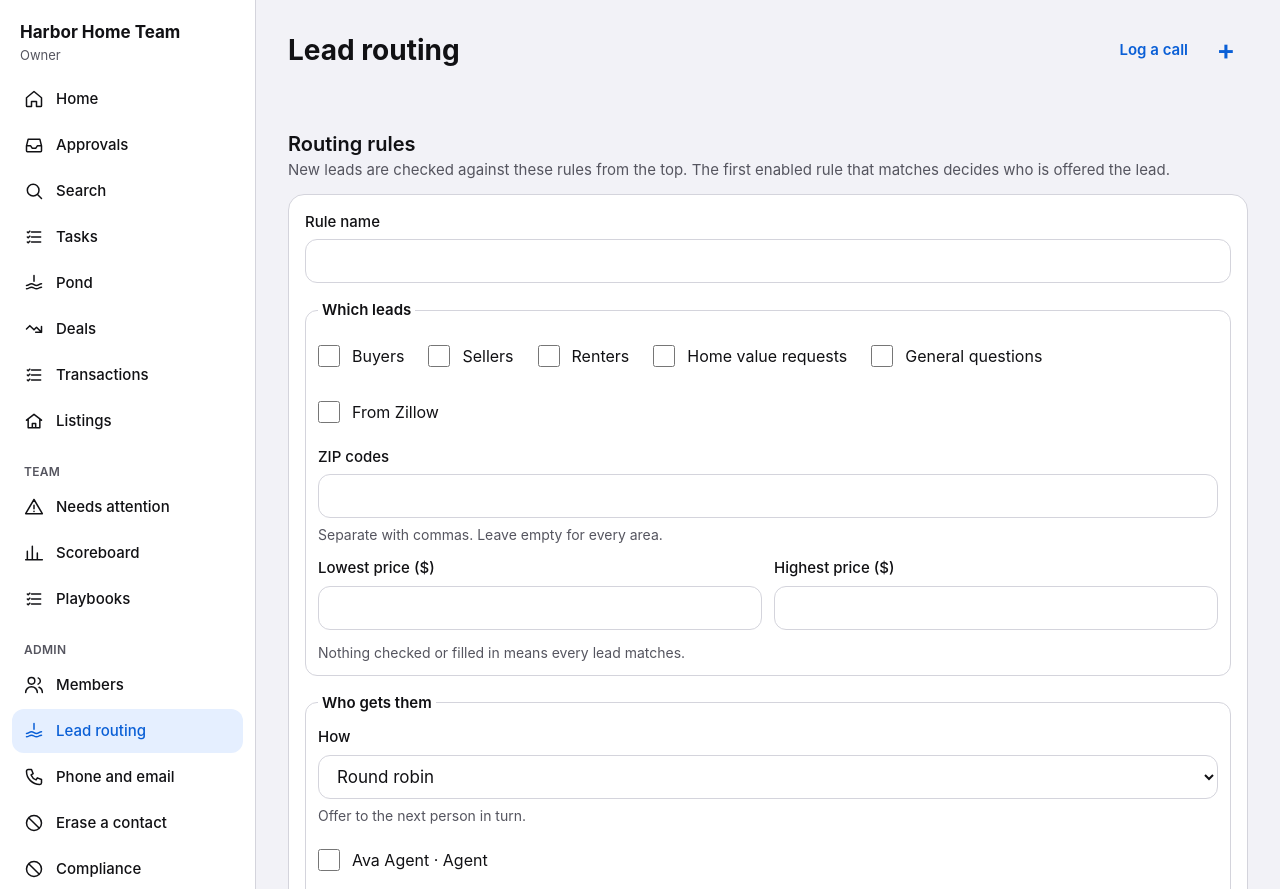
Test: Lead routing › creates a round-robin rule for Zillow buyers in two ZIPs; TCs are never offered as candidates
Earlier steps of the test are not shown.
Type "Zillow buyers" into the field labelled "Rule name" at {"x": 768, "y": 261}, box [305, 239, 1231, 283]
Click the checkbox labelled "Buyers" at {"x": 329, "y": 356}, box [318, 344, 340, 366]
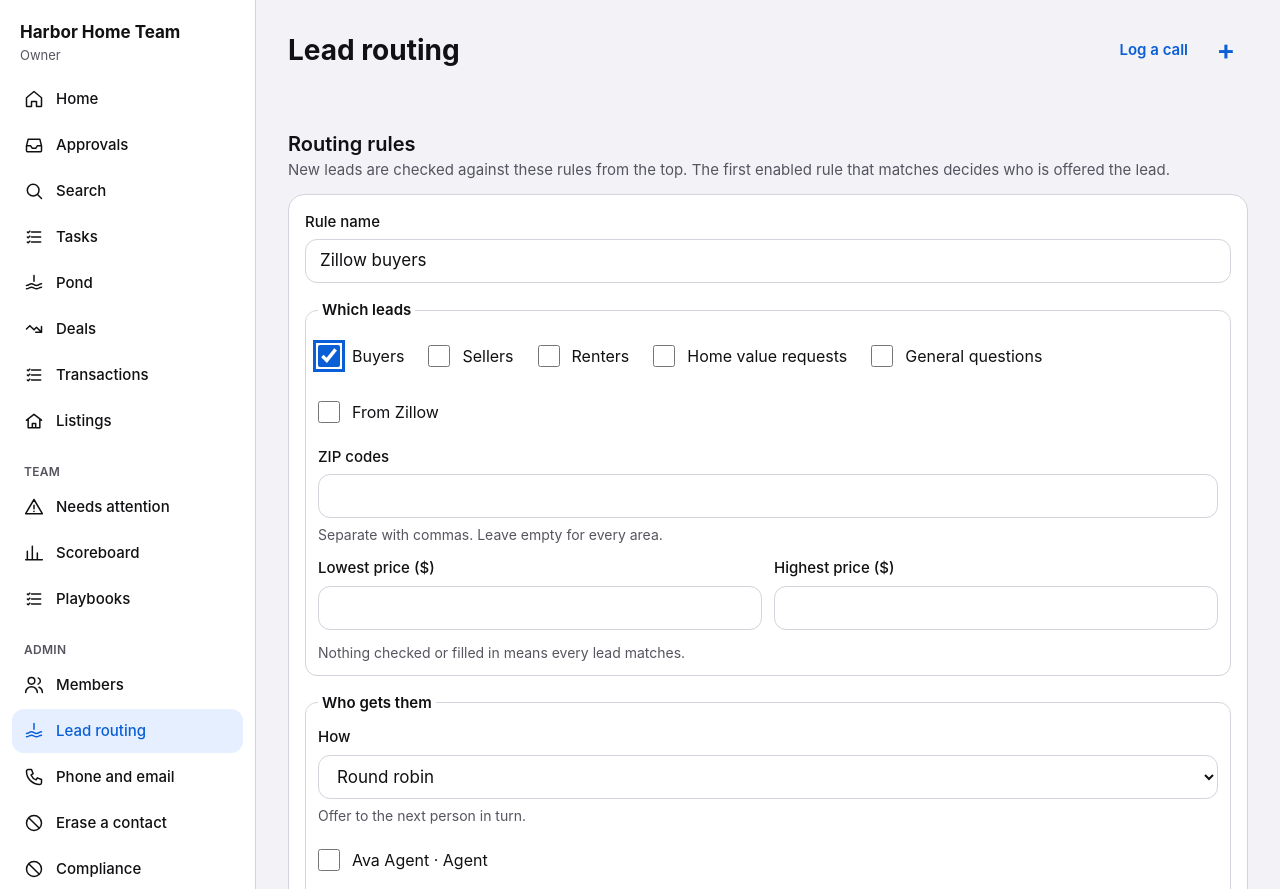
Click the checkbox labelled "From Zillow" at {"x": 329, "y": 412}, box [318, 400, 340, 422]
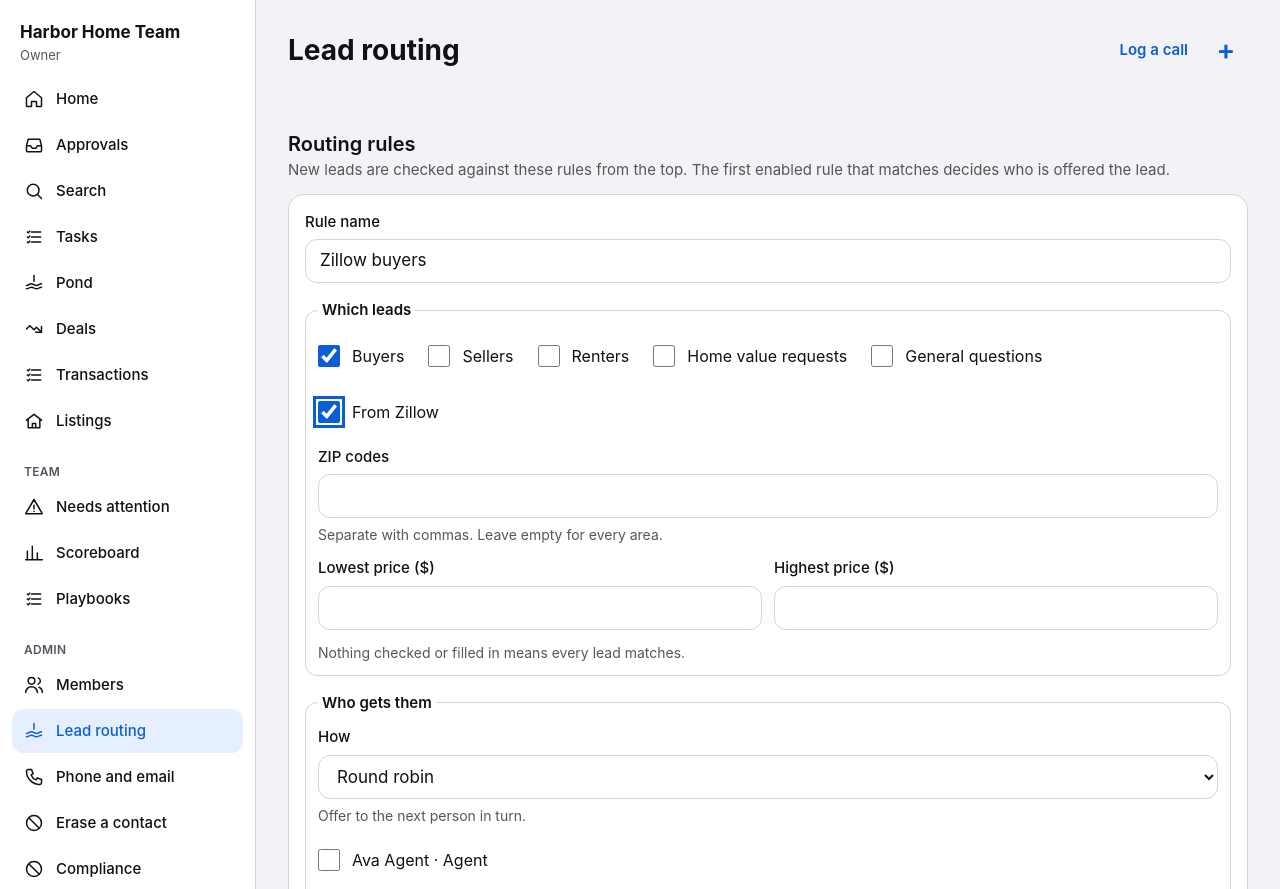
Type "94110, 94112" into the field labelled "ZIP codes" at {"x": 768, "y": 496}, box [318, 474, 1218, 518]
Type "900,000" into the field labelled "Highest price ($)" at {"x": 996, "y": 608}, box [774, 586, 1218, 630]
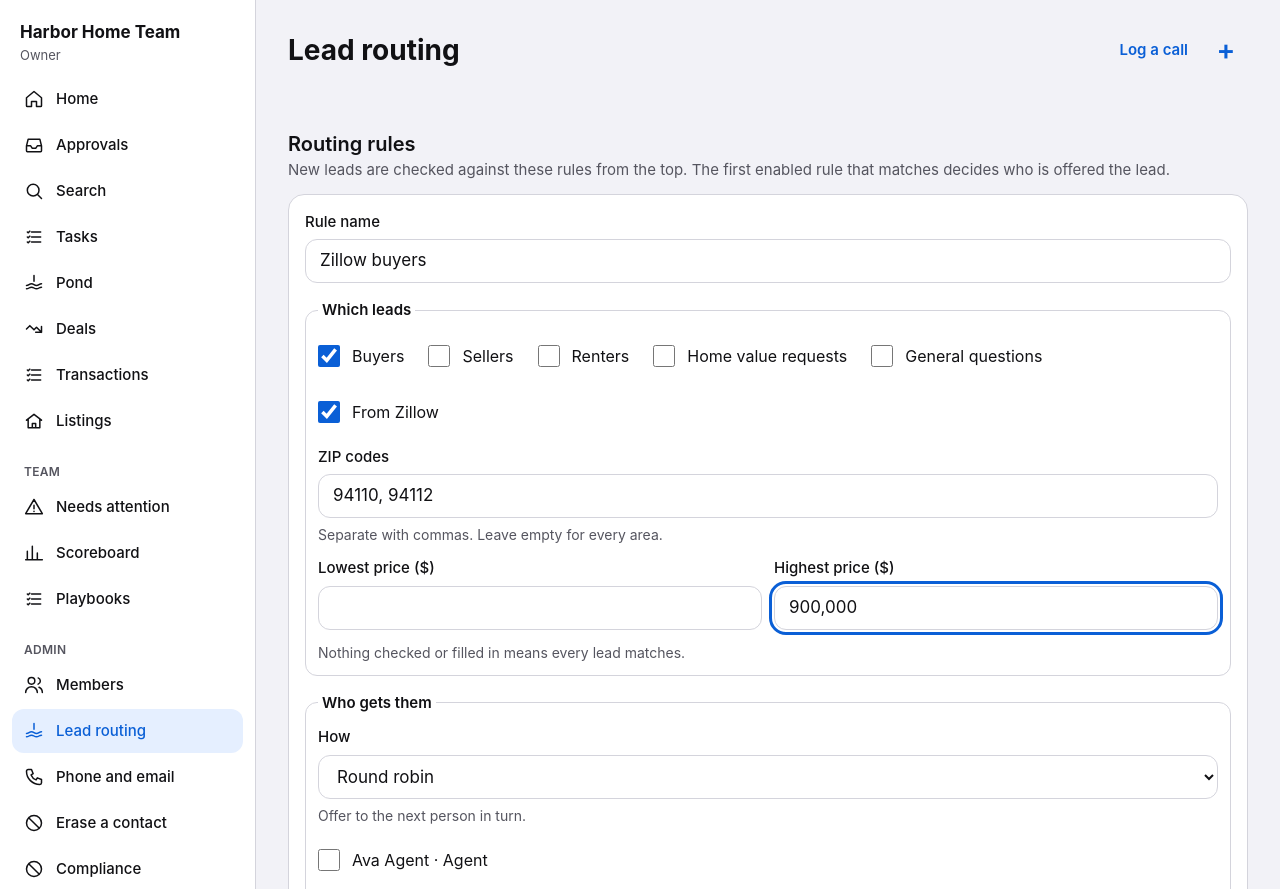
Click the checkbox labelled "Ava Agent · Agent" at {"x": 329, "y": 860}, box [318, 848, 340, 870]
(page scrolled)
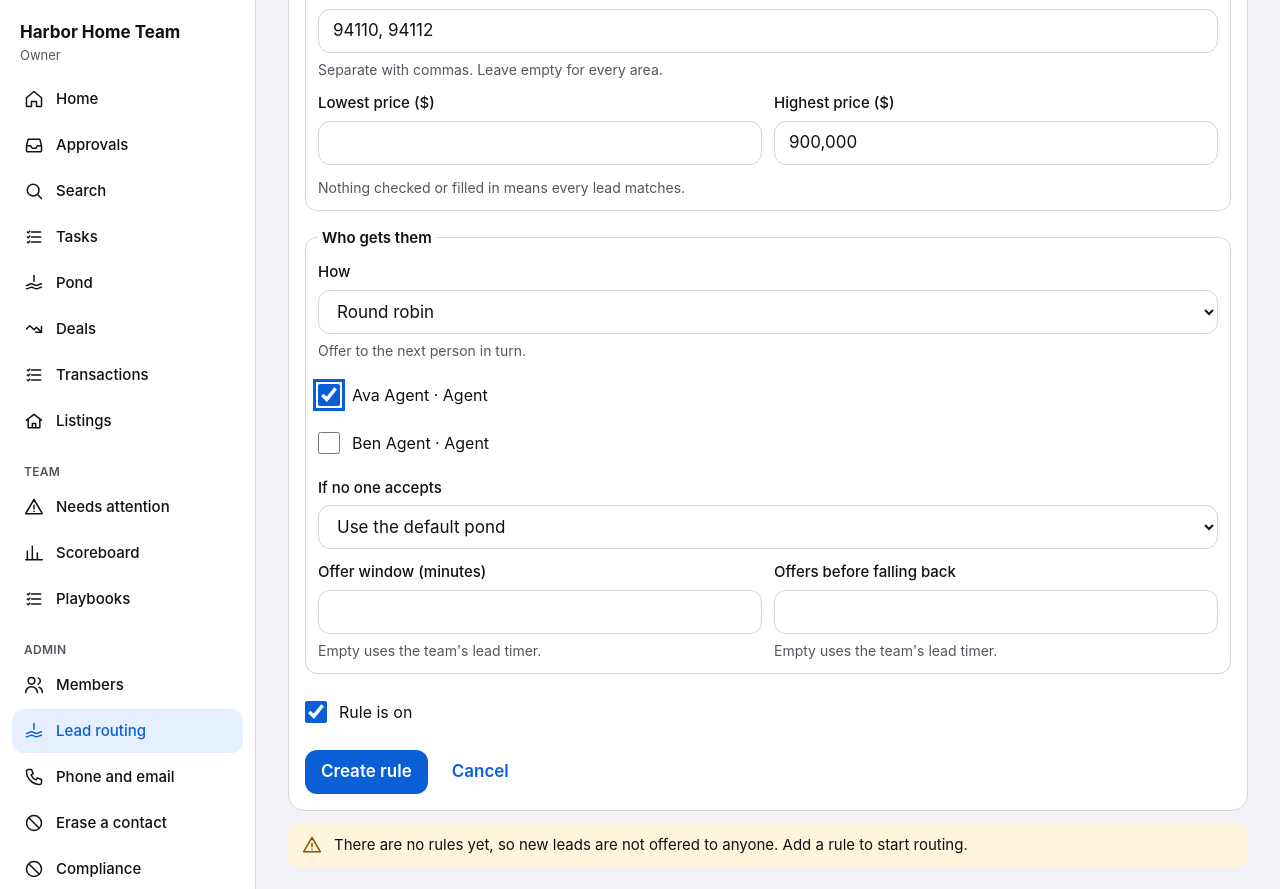
Click the checkbox labelled "Ben Agent · Agent" at {"x": 329, "y": 442}, box [318, 432, 340, 454]
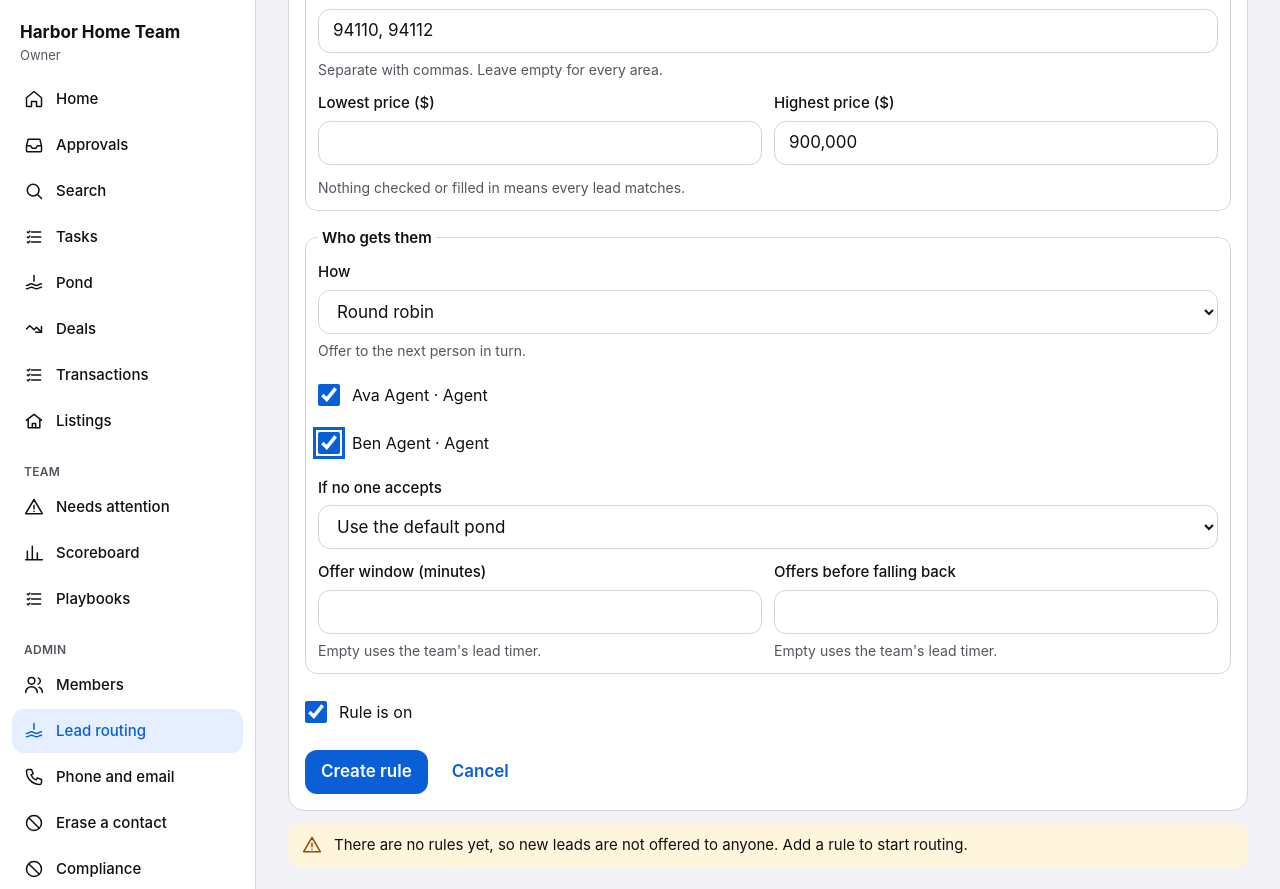
Click the button "Create rule" at {"x": 366, "y": 772}, box [305, 750, 428, 794]
(page scrolled)
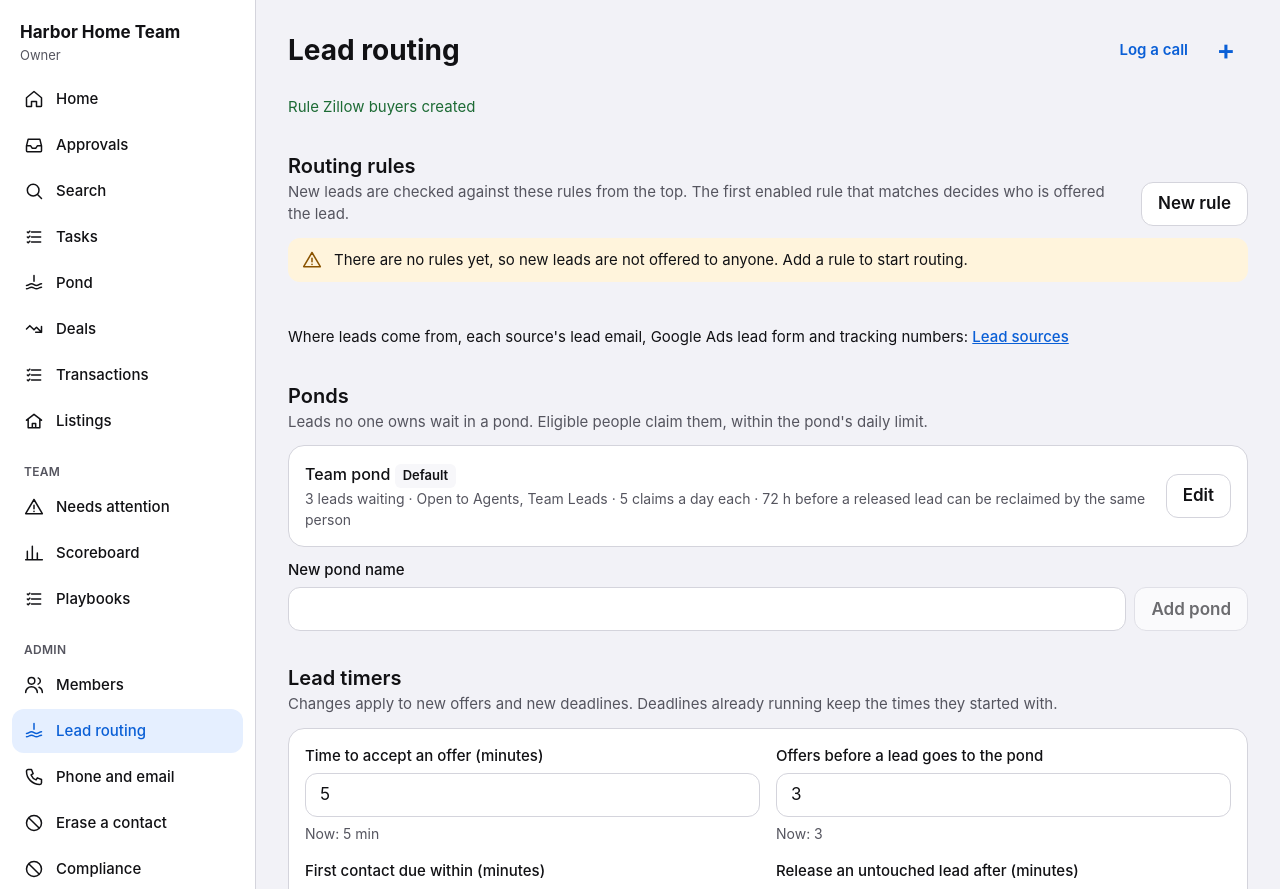
Result: the text "Rule Zillow buyers created" is shown at [288, 97, 475, 116]
